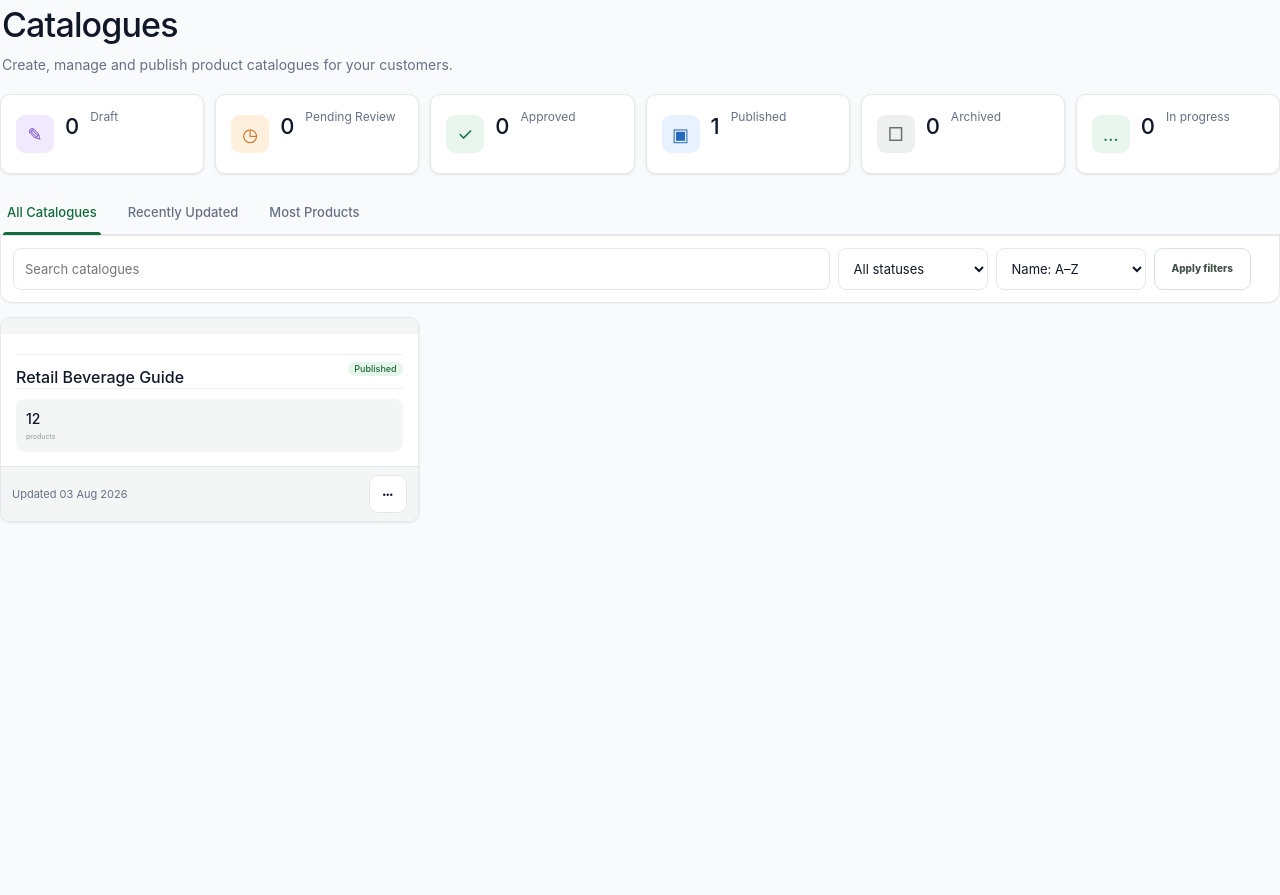
CatalogueManagement preview action › warns that deleting a Studio-managed catalogue also deletes its source design
Click the button named "More catalogue actions". click: (388, 494)
box: [369,475,407,513]
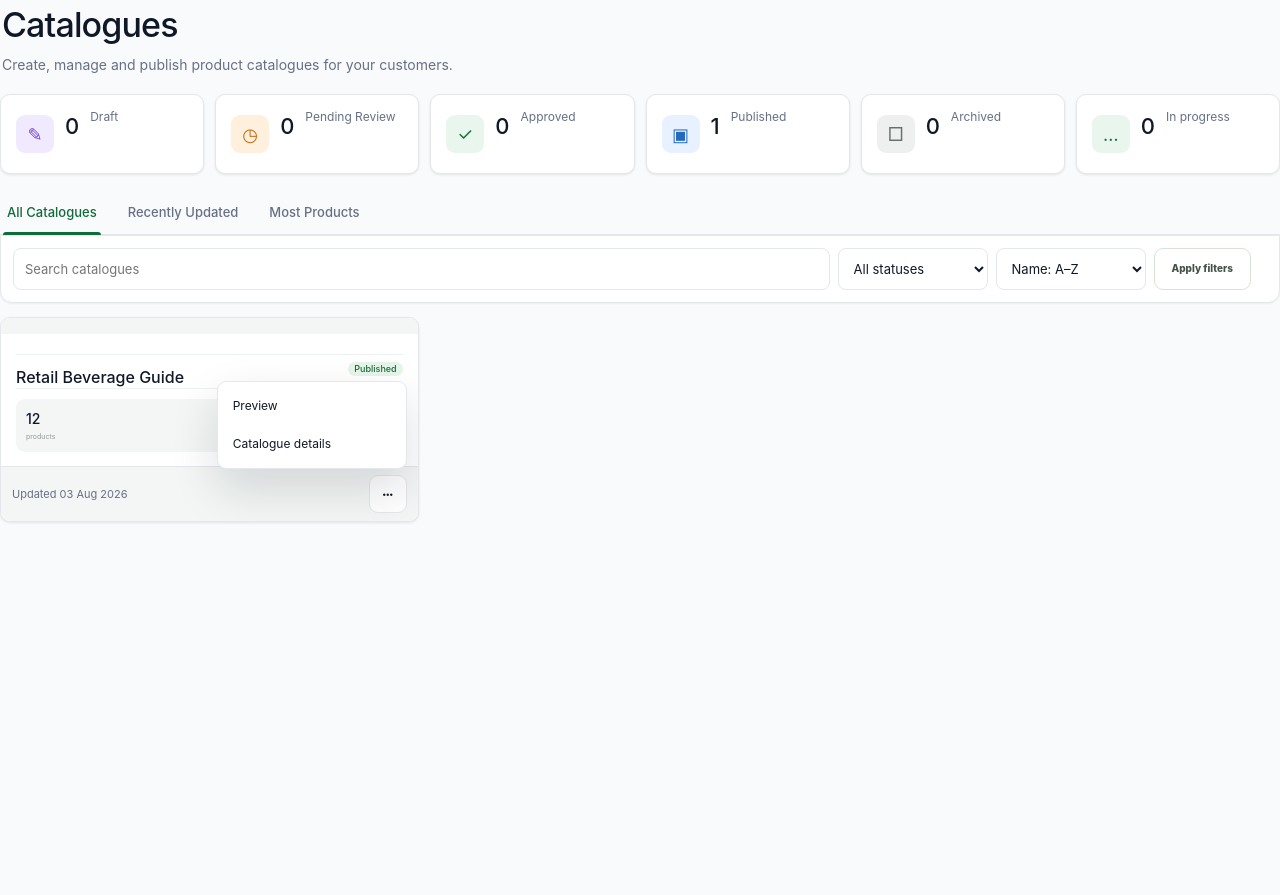
Click the menu item "Catalogue details". click: (312, 444)
box: [223,425,401,463]
(page scrolled)
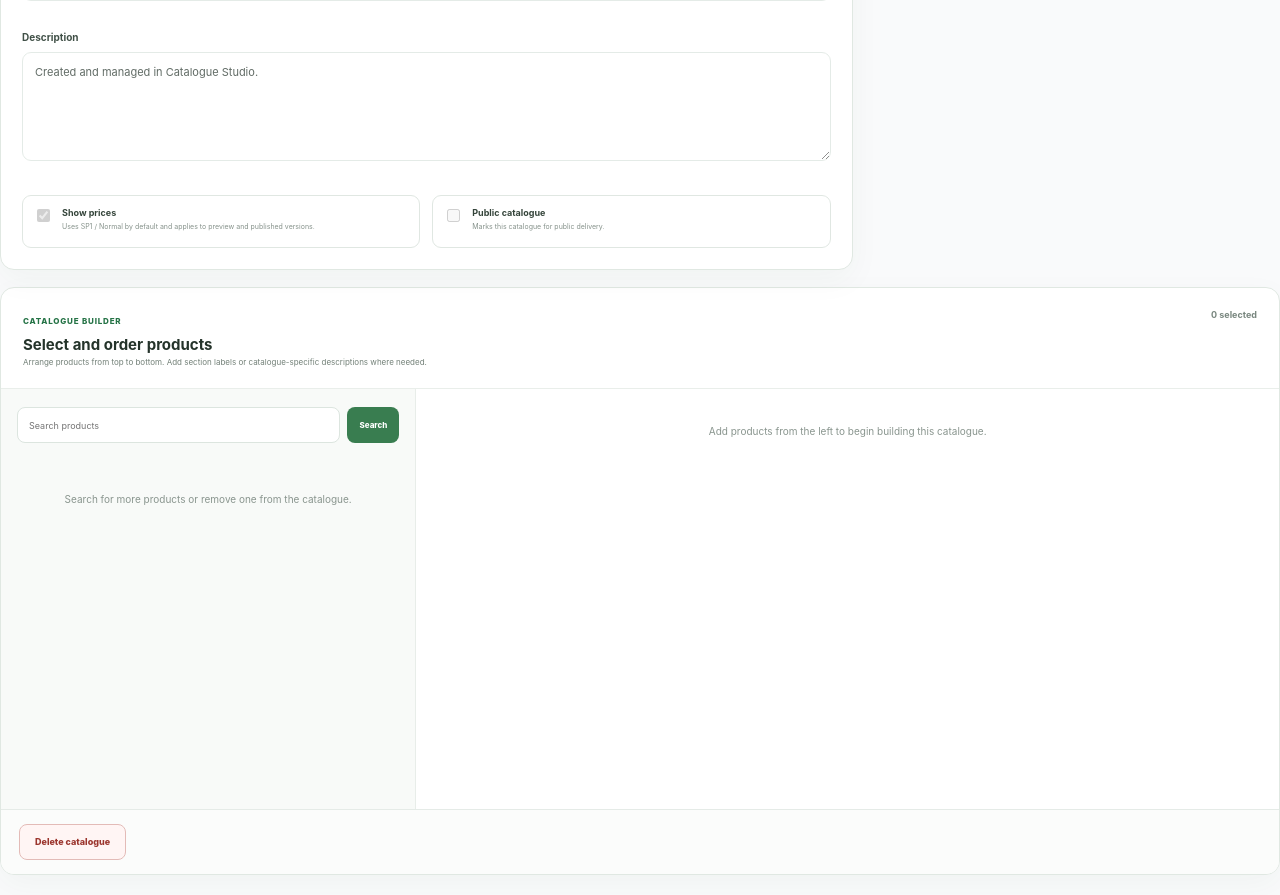
Click the button "Delete catalogue". click: (73, 842)
box: [19,824,126,860]
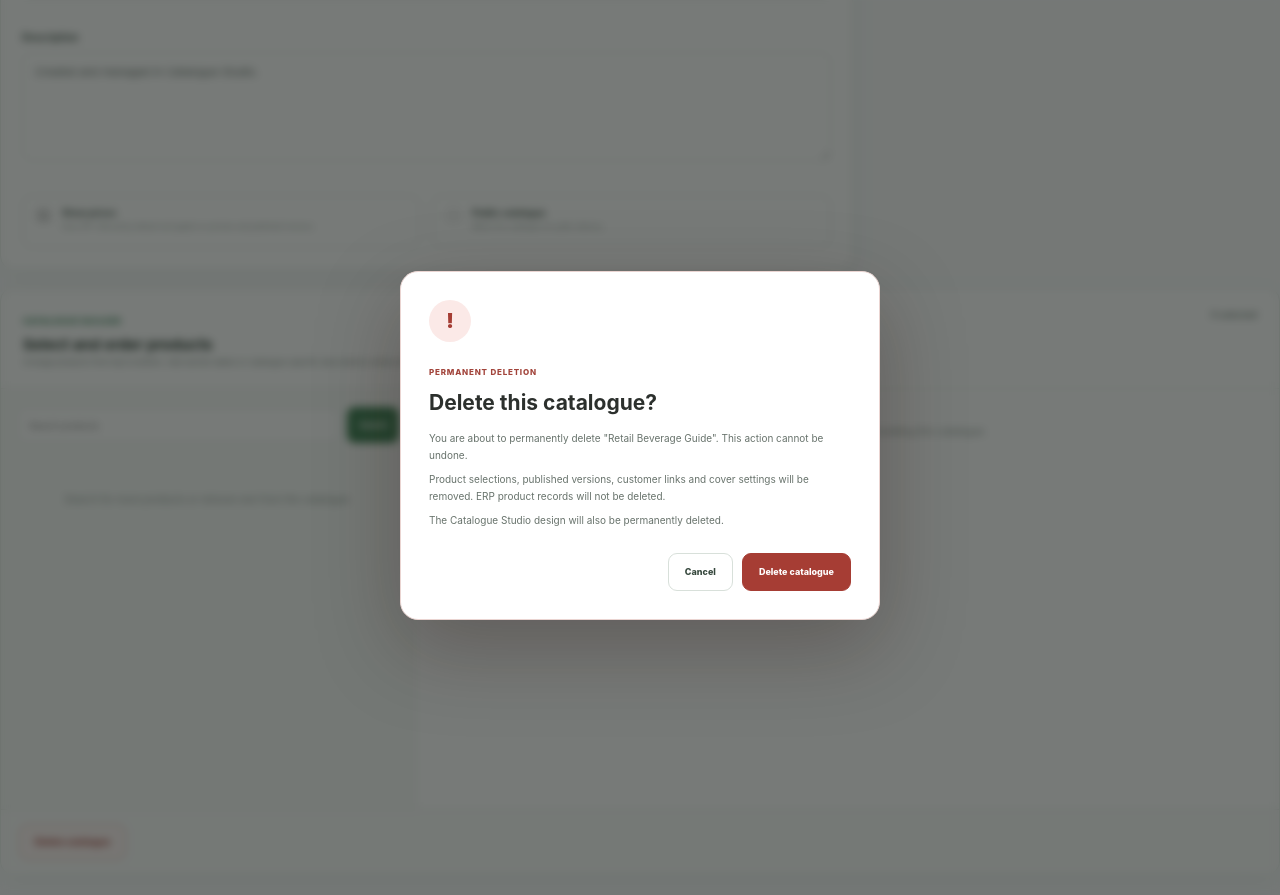
Check: the dialog "Delete this catalogue?" shows "The Catalogue Studio design will also be permanently deleted.", box [429,514,724,526]
